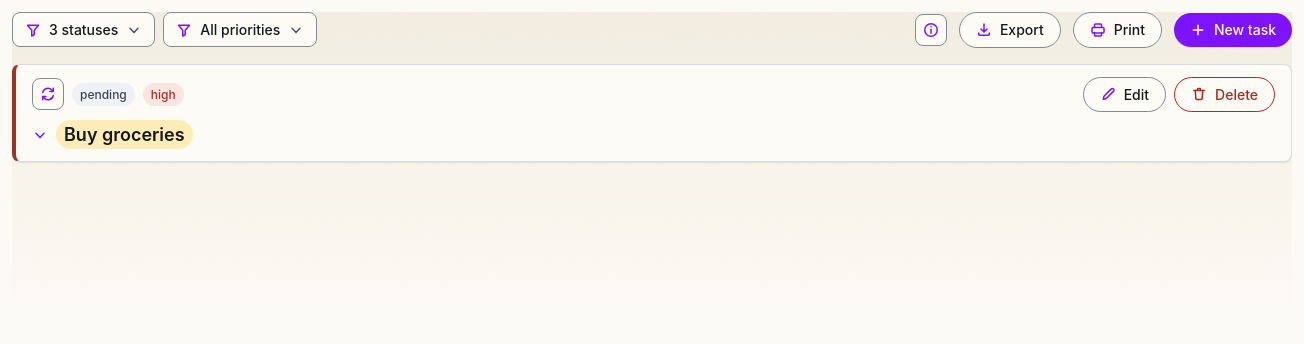
TaskList › the counts panel shows the total across the filtered set, not just the page on screen
What coordinates should you click on to do the following:
click the button named "Task counts (5)"
I would click on:
 (931, 30)
Its box is [915,14,947,46].
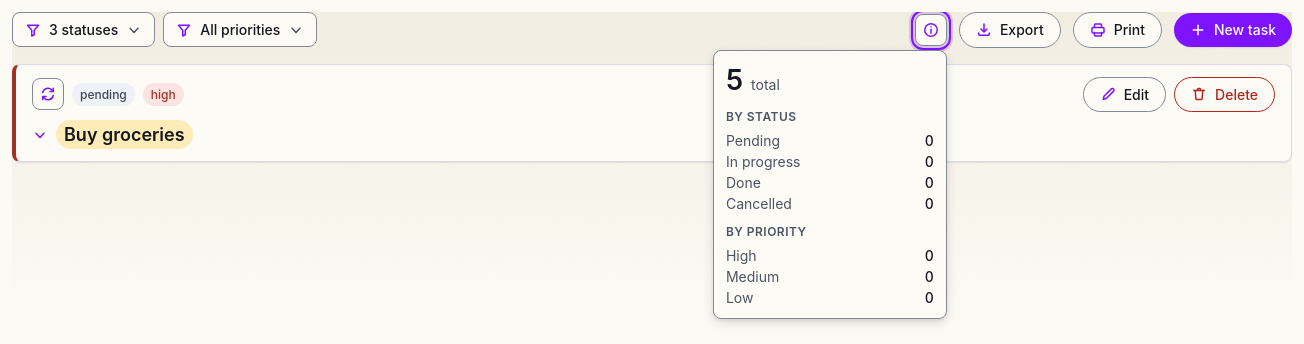
expect the text "5" is shown: met, box [726,63,743,97]
expect the text "total" is shown: met, box [751,76,780,93]
